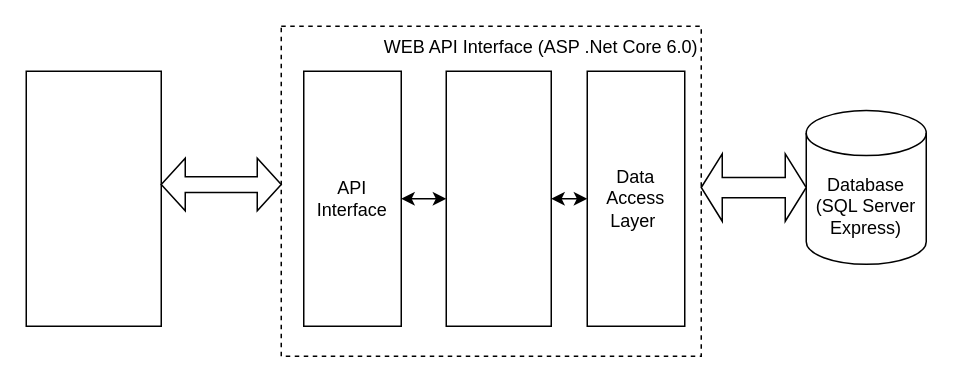
This 953x383 diagram has some shape labels left out. The centre of each missing label's shape, as x and y in pixels:
"Business Logic / IO Manipulation" belongs at [498,198].
"UI (Angular / /HTML/CSS)" belongs at [93,198].
